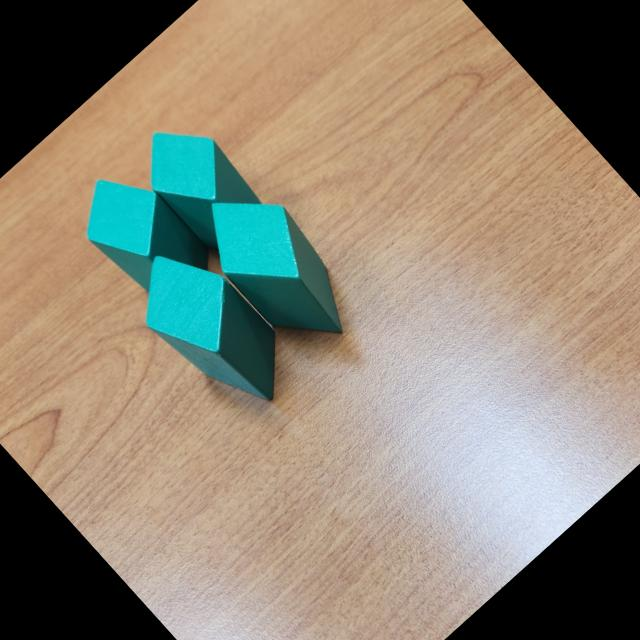green: (117, 230, 309, 429), (182, 168, 372, 364), (63, 156, 220, 318), (126, 106, 276, 260)
